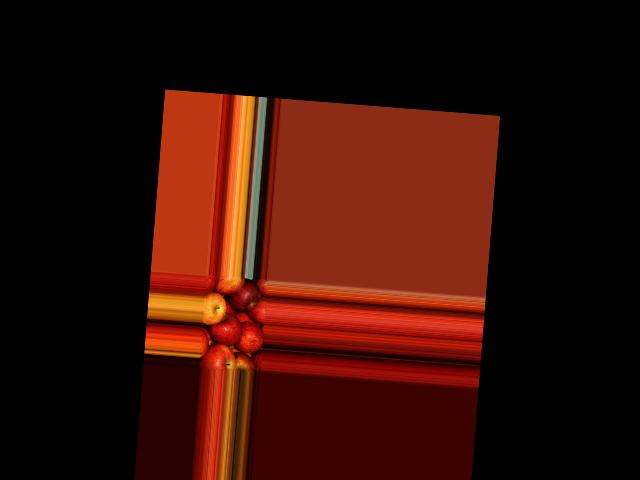apple: (233, 318, 263, 355)
